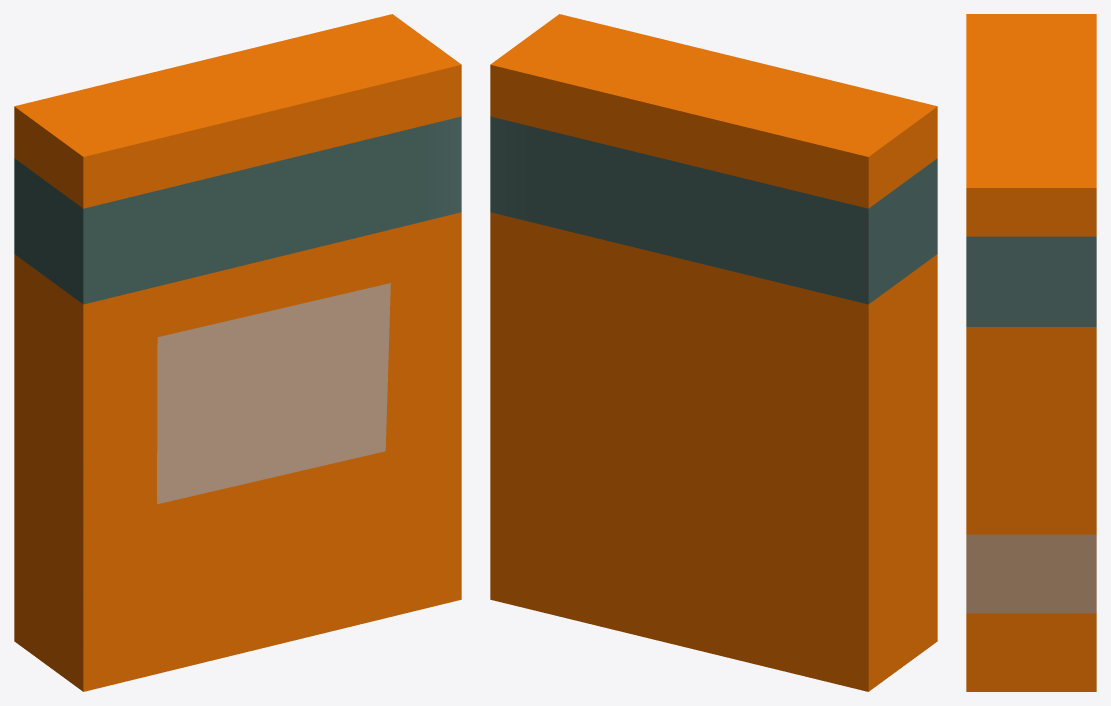
The model's file is SM_Food_FoodBox_01.fbx.
3 views of the same model, side by side, from view 1: azimuth 30°, elevation 25°; view 2: azimuth 150°, elevation 25°; view 3: azimuth 270°, elevation 25° (orthographic). The views are drawn at different scales.
Visible parts, largest first — view 1: SM_Food_FoodBox_01; view 2: SM_Food_FoodBox_01; view 3: SM_Food_FoodBox_01.
Part boxes in pixels (<box>): SM_Food_FoodBox_01: <box>14,14,461,691</box>; SM_Food_FoodBox_01: <box>490,14,937,691</box>; SM_Food_FoodBox_01: <box>966,14,1096,691</box>.
Bounding box in the file's own units: 0.2195 × 0.2966 × 0.0696.
